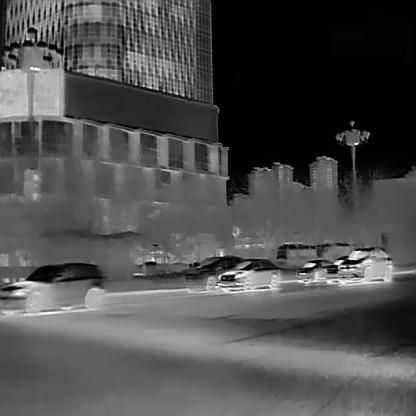bus: (314, 241, 363, 265), (275, 243, 318, 268)
car: (0, 262, 107, 314), (216, 258, 283, 292), (185, 254, 245, 290), (336, 246, 392, 282), (295, 258, 334, 282)
